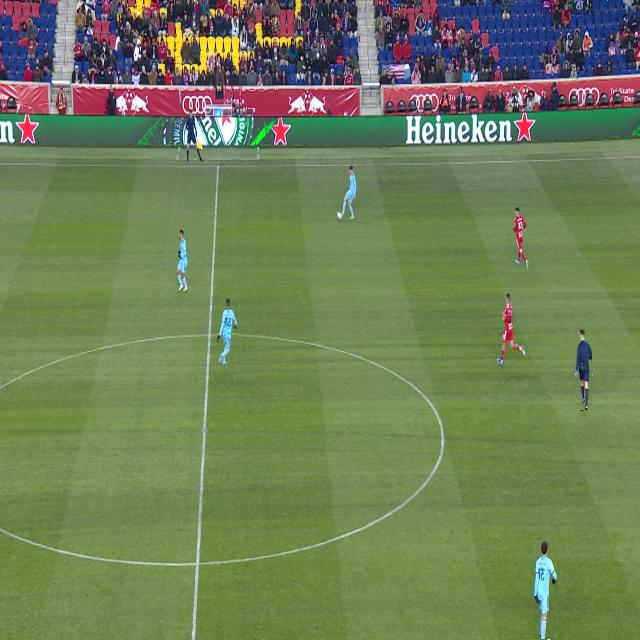football: (337, 213, 342, 220)
player: (534, 540, 558, 640), (496, 292, 526, 365), (217, 299, 238, 366), (513, 206, 529, 271), (338, 166, 357, 220), (177, 230, 188, 292), (184, 272, 185, 276)
referee: (576, 329, 592, 410)
